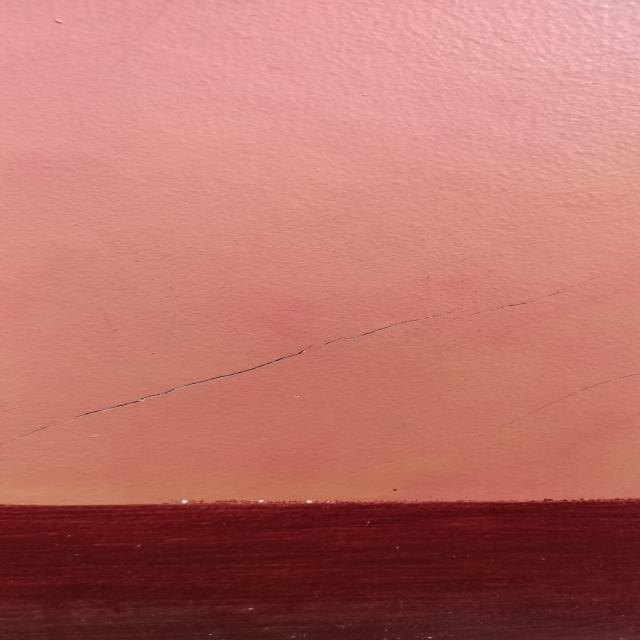Crack: (9, 284, 592, 446)
